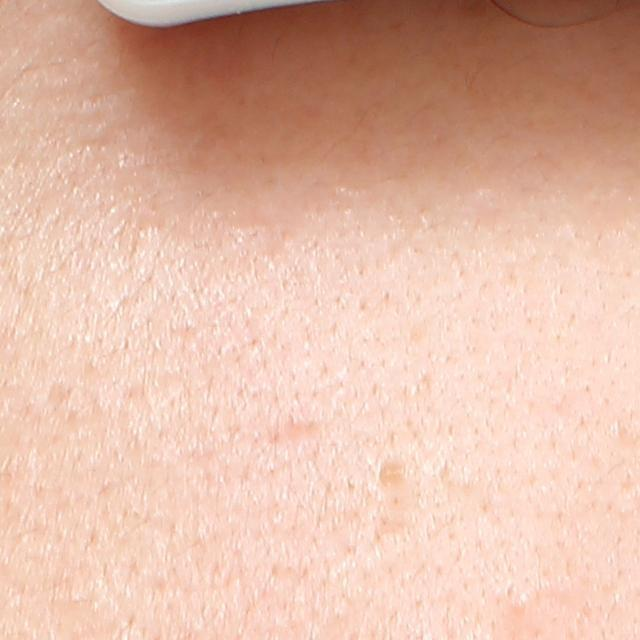comedo: (376, 459, 405, 486)
